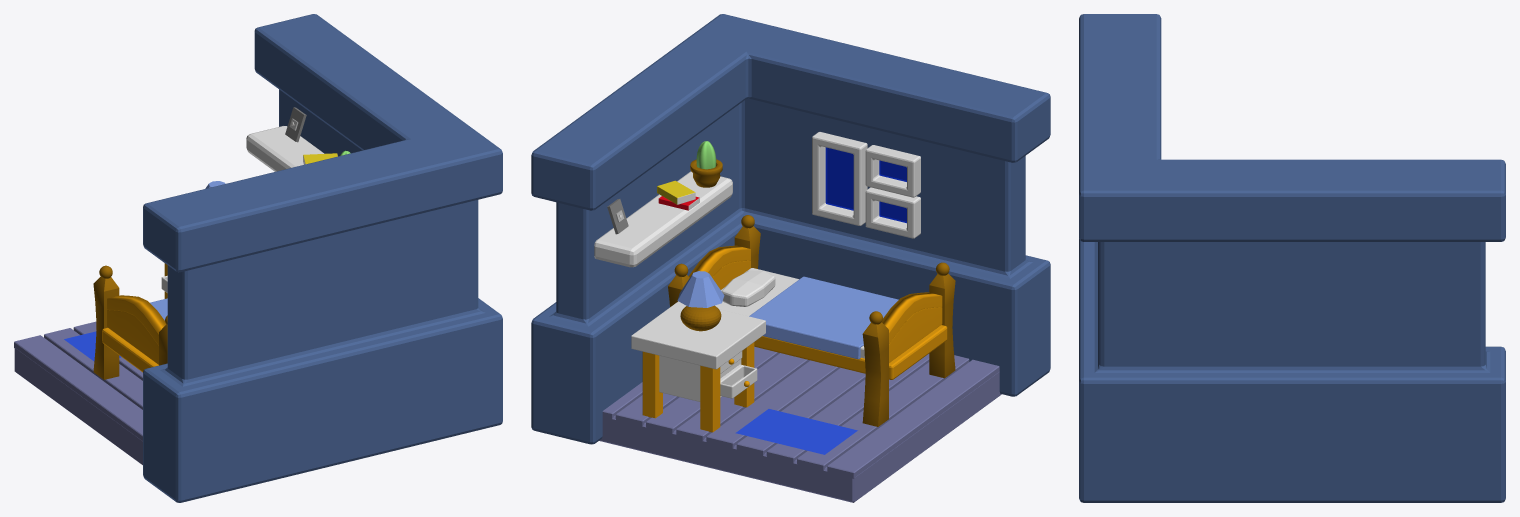
The model's file is Bedroom.fbx.
3 renders of one model, left to right at view 1: azimuth 30°, elevation 25°; view 2: azimuth 150°, elevation 25°; view 3: azimuth 270°, elevation 25°, orthographic. The views are drawn at different scales.
Parts seen in each view (by area): view 1: Cube, Plane.001, Plane, Plane.003, Plane.004, Cube.002, Plane.002; view 2: Cube, Plane.001, Plane, Cube.001, Plane.010, Plane.008, Cube.002, Plane.004, Plane.003, Plane.011, Plane.012, Plane.002 (+6 smaller); view 3: Cube.
Boxes of the visible parts, box(x1,y1,x2,y2) form: Cube: box(143, 14, 502, 502); Plane.001: box(14, 321, 142, 440); Plane: box(14, 348, 142, 464); Plane.003: box(107, 295, 165, 364); Plane.004: box(93, 265, 167, 379); Cube.002: box(246, 126, 324, 171); Plane.002: box(102, 327, 158, 372); Cube: box(531, 14, 1050, 444); Plane.001: box(602, 346, 999, 478); Plane: box(599, 372, 1001, 502); Cube.001: box(812, 132, 920, 238); Plane.010: box(631, 301, 765, 401); Plane.008: box(749, 276, 898, 359); Cube.002: box(594, 171, 732, 267); Plane.004: box(862, 262, 955, 426); Plane.003: box(688, 245, 942, 362); Plane.011: box(642, 342, 754, 432); Plane.012: box(735, 409, 857, 454); Plane.002: box(754, 325, 947, 379); Cube: box(1079, 14, 1505, 502).
Bounding box in the file's own units: 248 × 202 × 248.
